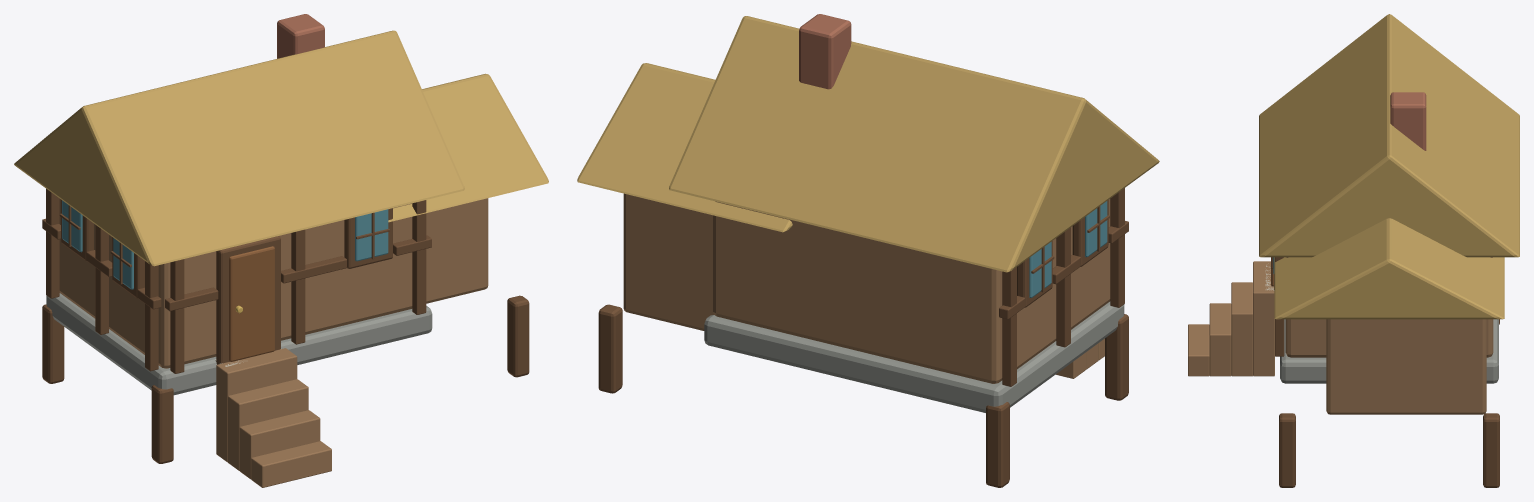
Rendered from wetland-cottage-1.glb.
3 renders of one model, left to right at view 1: azimuth 30°, elevation 25°; view 2: azimuth 150°, elevation 25°; view 3: azimuth 270°, elevation 25°, orthographic. The views are drawn at different scales.
Parts seen in each view (by area): view 1: Golden thatch, Aged oak, Dark beams, Foundation stone, Door oak, Blue glass, Chimney brick; view 2: Golden thatch, Aged oak, Dark beams, Foundation stone, Chimney brick, Blue glass; view 3: Golden thatch, Aged oak, Dark beams, Foundation stone, Chimney brick.
Part boxes in pixels (<box>): Golden thatch: <box>14,30,548,266</box>; Aged oak: <box>59,198,488,487</box>; Dark beams: <box>42,189,529,463</box>; Foundation stone: <box>46,293,432,395</box>; Door oak: <box>229,246,274,361</box>; Blue glass: <box>62,200,388,289</box>; Chimney brick: <box>277,14,324,58</box>; Golden thatch: <box>577,16,1159,272</box>; Aged oak: <box>623,193,1110,383</box>; Dark beams: <box>598,188,1128,487</box>; Foundation stone: <box>704,301,1124,412</box>; Chimney brick: <box>799,14,851,89</box>; Blue glass: <box>1029,201,1107,297</box>; Golden thatch: <box>1259,14,1519,319</box>; Aged oak: <box>1188,257,1493,414</box>; Dark beams: <box>1271,257,1499,487</box>; Foundation stone: <box>1280,319,1498,383</box>; Chimney brick: <box>1390,92,1426,150</box>.
Size of the model in its own units: 4.66 by 3.72 by 3.52.
